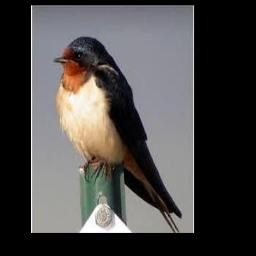Swallow: (53, 36, 183, 233)
